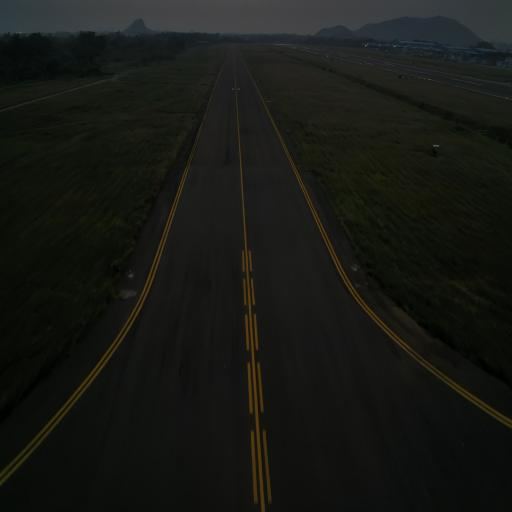on: (128, 268, 132, 276), (354, 262, 358, 270)
